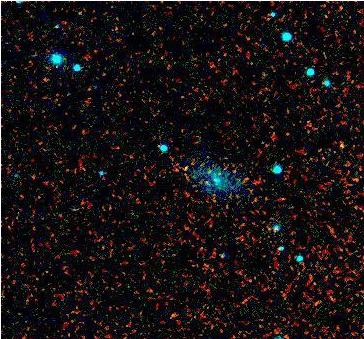star: (158, 297, 188, 327)
